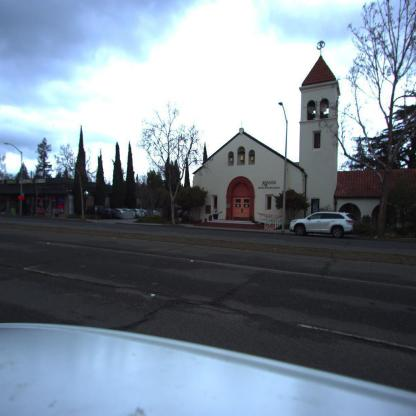car: (290, 212, 353, 238), (96, 206, 122, 218), (110, 207, 136, 219)
om: (315, 38, 327, 53)
